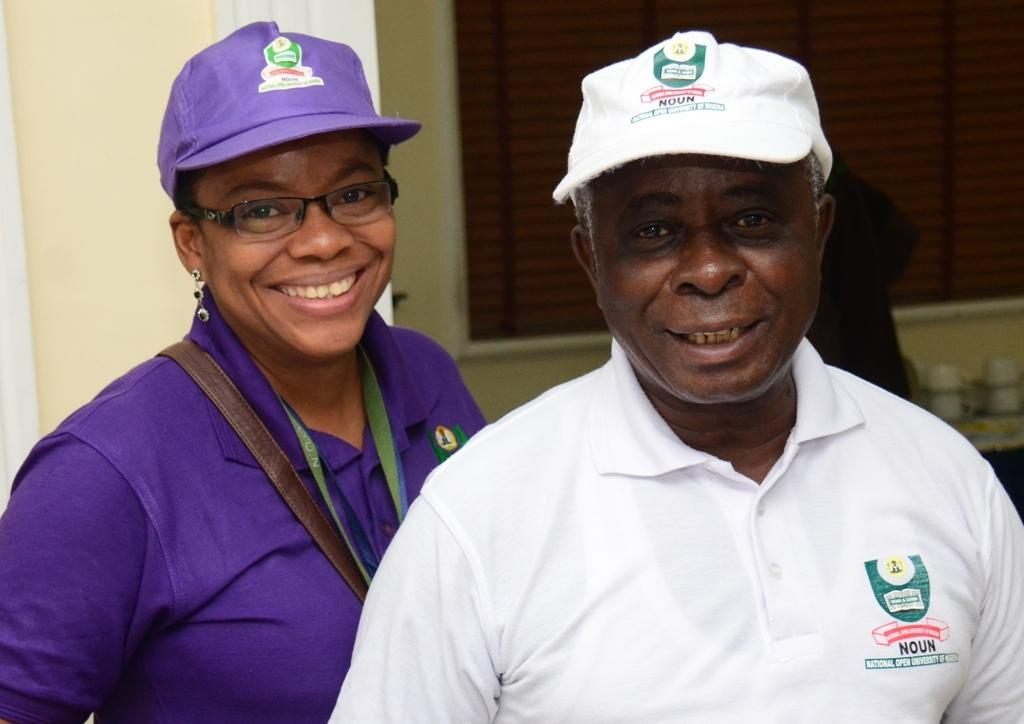Hat: (552, 28, 836, 210), (157, 17, 423, 207)
